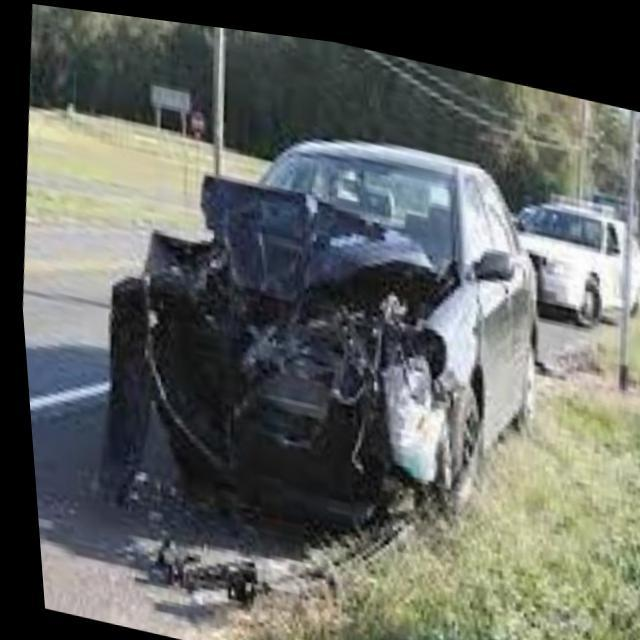crash: (96, 175, 461, 503)
